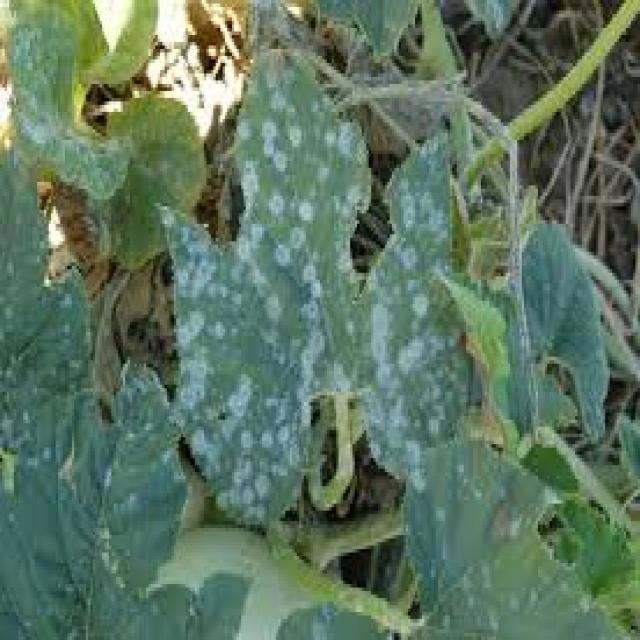powdery-mildew: (370, 286, 433, 446), (261, 95, 310, 268), (172, 216, 210, 430), (224, 385, 276, 507), (305, 269, 322, 414)
